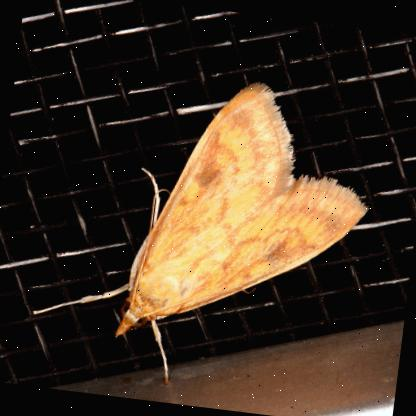Asian Corn Borer Moth: (21, 54, 384, 409)
